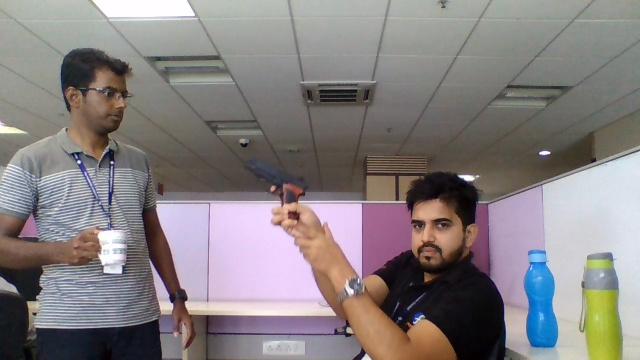gun: (244, 156, 312, 204)
